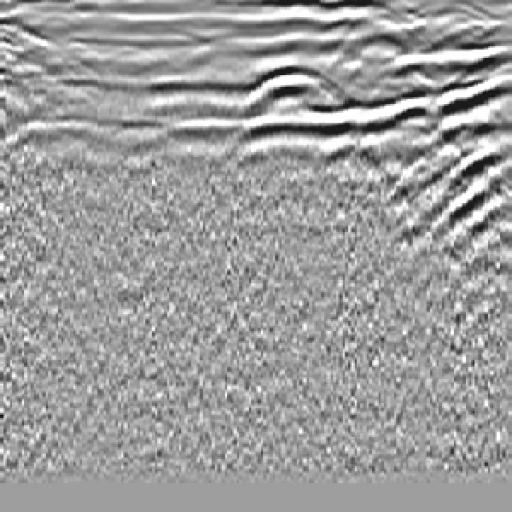metalic: (229, 64, 359, 116)
